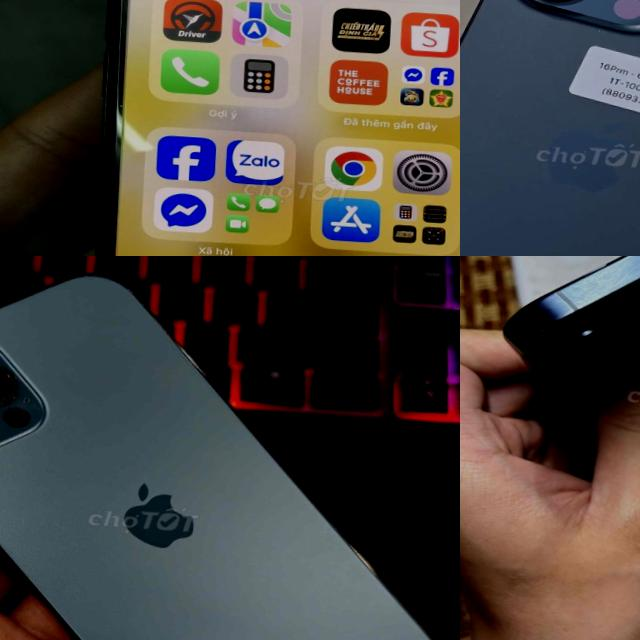gen_12_13: (0, 256, 460, 640)
gen_15: (479, 256, 640, 432)
gen_16: (460, 0, 640, 256)
gen_x_xs: (37, 0, 460, 256)
